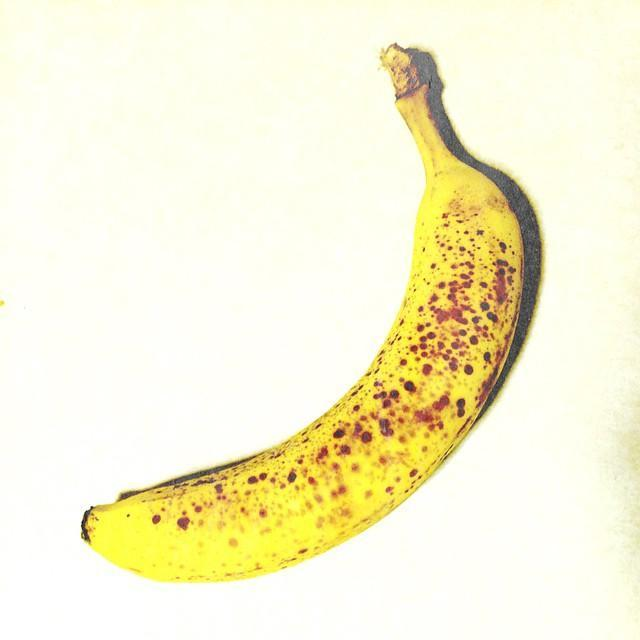Banana: (81, 42, 525, 580)
